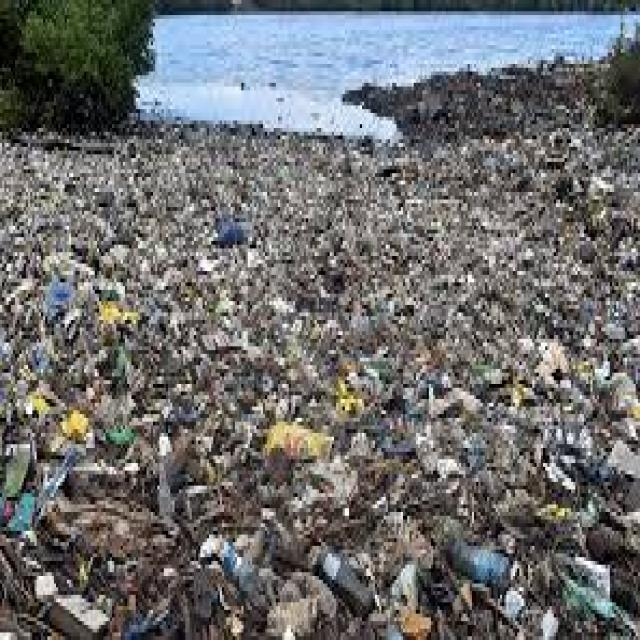heap: (68, 192, 620, 625)
